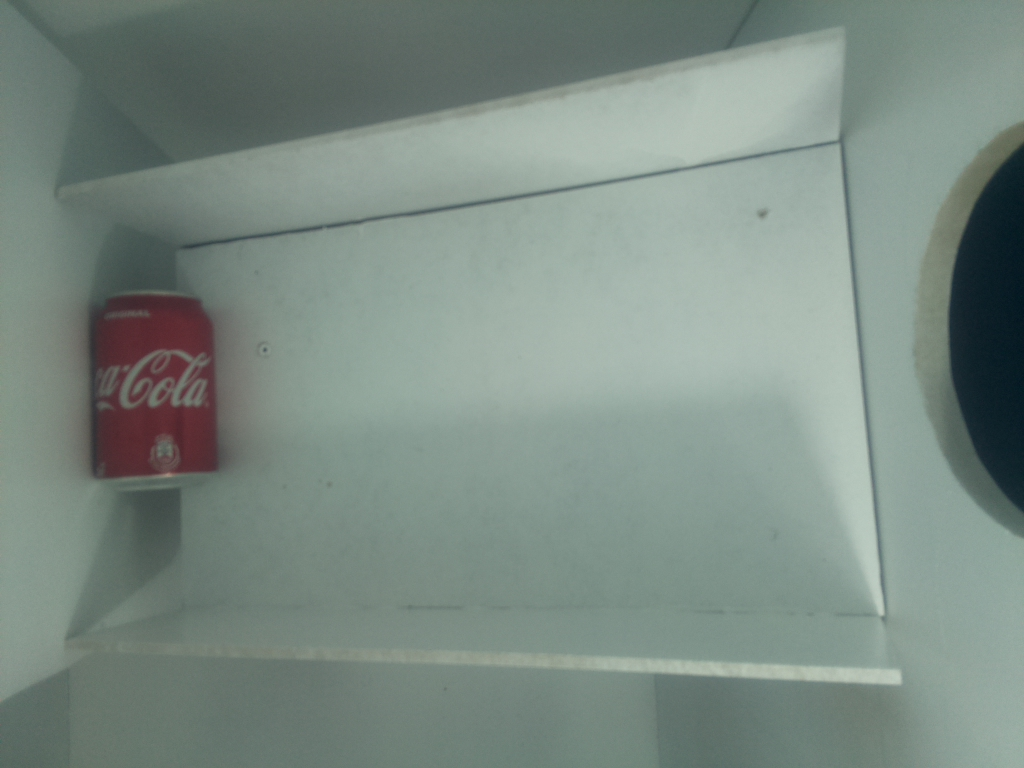kaleng: (91, 293, 218, 490)
